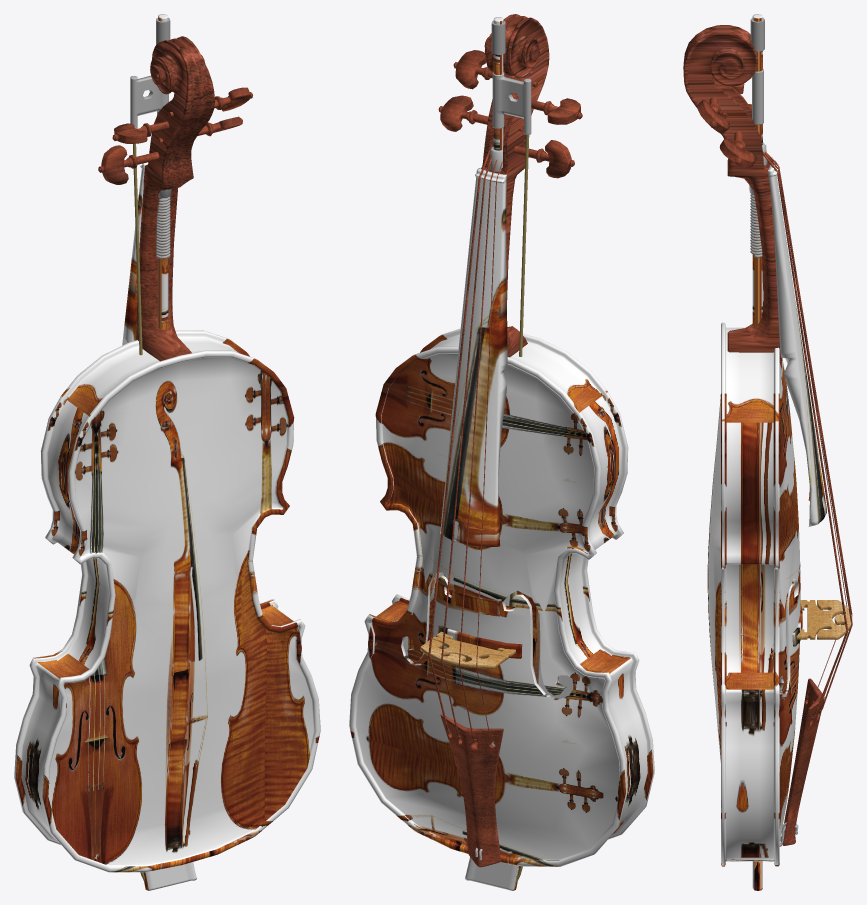
Rendered from ViolinOBJ.obj.
The picture shows the model from 3 angles, left to right: view 1: azimuth 30°, elevation 25°; view 2: azimuth 150°, elevation 25°; view 3: azimuth 270°, elevation 25°; orthographic projection.
Visible parts, largest first — view 1: violin_detras, violin, mastil, mariposa, vara, vara_caucho, mastil_Negro, vara_cable, vara_cuerda; view 2: violin, mastil_Negro, mastil, puente_inferior, cuerdas, mariposa, vara_caucho, puente, vara, violin_detras, vara_cuerda; view 3: violin, mastil, mastil_Negro, cuerdas, violin_detras, puente_inferior, puente, mariposa, vara, vara_caucho, vara_cable, vara_metal.
Part boxes in pixels (<box>): violin_detras: <box>48,357,315,866</box>; violin: <box>14,330,320,872</box>; mastil: <box>136,36,214,361</box>; mariposa: <box>98,87,252,184</box>; vara: <box>143,14,196,890</box>; vara_caucho: <box>130,75,171,198</box>; mastil_Negro: <box>122,162,172,345</box>; vara_cable: <box>156,196,170,258</box>; vara_cuerda: <box>133,143,145,881</box>; violin: <box>349,328,654,866</box>; mastil_Negro: <box>438,168,522,658</box>; mastil: <box>481,14,549,357</box>; puente_inferior: <box>440,713,503,867</box>; cuerdas: <box>428,77,521,742</box>; mariposa: <box>438,50,582,178</box>; vara_caucho: <box>489,72,531,171</box>; puente: <box>420,631,515,668</box>; vara: <box>465,17,519,890</box>; violin_detras: <box>403,576,573,698</box>; vara_cuerda: <box>511,135,529,881</box>; violin: <box>721,322,800,866</box>; mastil: <box>683,25,782,369</box>; mastil_Negro: <box>768,157,826,646</box>; cuerdas: <box>762,151,852,719</box>; violin_detras: <box>707,394,720,762</box>; puente_inferior: <box>782,678,824,845</box>; puente: <box>796,600,852,639</box>; mariposa: <box>697,83,756,168</box>; vara: <box>752,14,762,890</box>; vara_caucho: <box>749,69,767,195</box>; vara_cable: <box>750,194,762,257</box>; vara_metal: <box>750,18,764,51</box>.
Size of the model in its own units: 0.3342 by 0.9992 by 0.1783.
